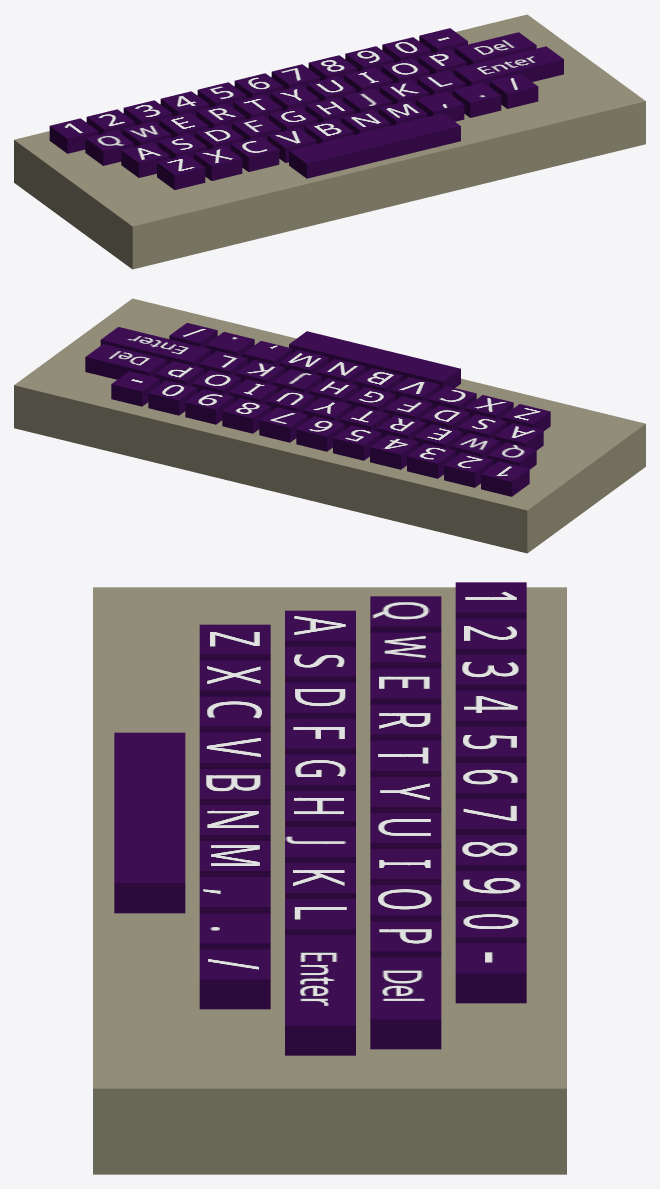
Rendered from Keyboard.glb.
3 views of the same model, one above another, from view 1: azimuth 30°, elevation 25°; view 2: azimuth 150°, elevation 25°; view 3: azimuth 270°, elevation 25° (orthographic). The views are drawn at different scales.
Parts seen in each view (by area): view 1: Keyboard, Key_Space, Key_Enter, Key_Delete, Key_Z, Key_Period, Key_Slash, Key_C, Key_X, Key_1, Key_Q, Key_A (+32 smaller); view 2: Keyboard, Key_Space, Key_Enter, Key_Delete, Key_1, Key_7, Key_8, Key_9, Key_0, Key_Hyphen, Key_6, Key_5 (+32 smaller); view 3: Keyboard, Key_Space, Key_Enter, Key_Delete, Key_Slash, Key_Hyphen, Key_1, Key_Q, Key_2, Key_3, Key_4, Key_5 (+32 smaller).
Boxes of the visible parts, bbox=[...] form: Keyboard: bbox=[14, 14, 645, 269]; Key_Space: bbox=[289, 113, 460, 178]; Key_Enter: bbox=[454, 46, 563, 86]; Key_Delete: bbox=[455, 32, 536, 65]; Key_Z: bbox=[157, 154, 205, 189]; Key_Period: bbox=[452, 82, 501, 117]; Key_Slash: bbox=[489, 73, 538, 108]; Key_C: bbox=[231, 136, 279, 171]; Key_X: bbox=[194, 145, 242, 180]; Key_1: bbox=[49, 118, 98, 153]; Key_Q: bbox=[85, 130, 133, 165]; Key_A: bbox=[121, 142, 169, 177]; Keyboard: bbox=[14, 298, 645, 553]; Key_Space: bbox=[289, 331, 460, 389]; Key_Enter: bbox=[100, 327, 210, 367]; Key_Delete: bbox=[85, 344, 166, 379]; Key_1: bbox=[481, 461, 529, 496]; Key_7: bbox=[259, 407, 307, 442]; Key_8: bbox=[222, 398, 270, 433]; Key_9: bbox=[185, 389, 233, 424]; Key_0: bbox=[148, 380, 196, 415]; Key_Hyphen: bbox=[111, 371, 159, 406]; Key_6: bbox=[296, 416, 344, 451]; Key_5: bbox=[333, 425, 381, 460]; Keyboard: bbox=[93, 587, 566, 1174]; Key_Space: bbox=[114, 732, 185, 913]; Key_Enter: bbox=[285, 935, 355, 1055]; Key_Delete: bbox=[370, 957, 441, 1049]; Key_Slash: bbox=[199, 949, 270, 1009]; Key_Hyphen: bbox=[455, 943, 526, 1003]; Key_1: bbox=[455, 582, 526, 618]; Key_Q: bbox=[370, 596, 441, 632]; Key_2: bbox=[455, 618, 526, 654]; Key_3: bbox=[455, 654, 526, 690]; Key_4: bbox=[455, 690, 526, 726]; Key_5: bbox=[455, 726, 526, 762].
Size of the model in its own units: 0.25 by 0.027 by 0.1.
2 materials, 1 textured.
